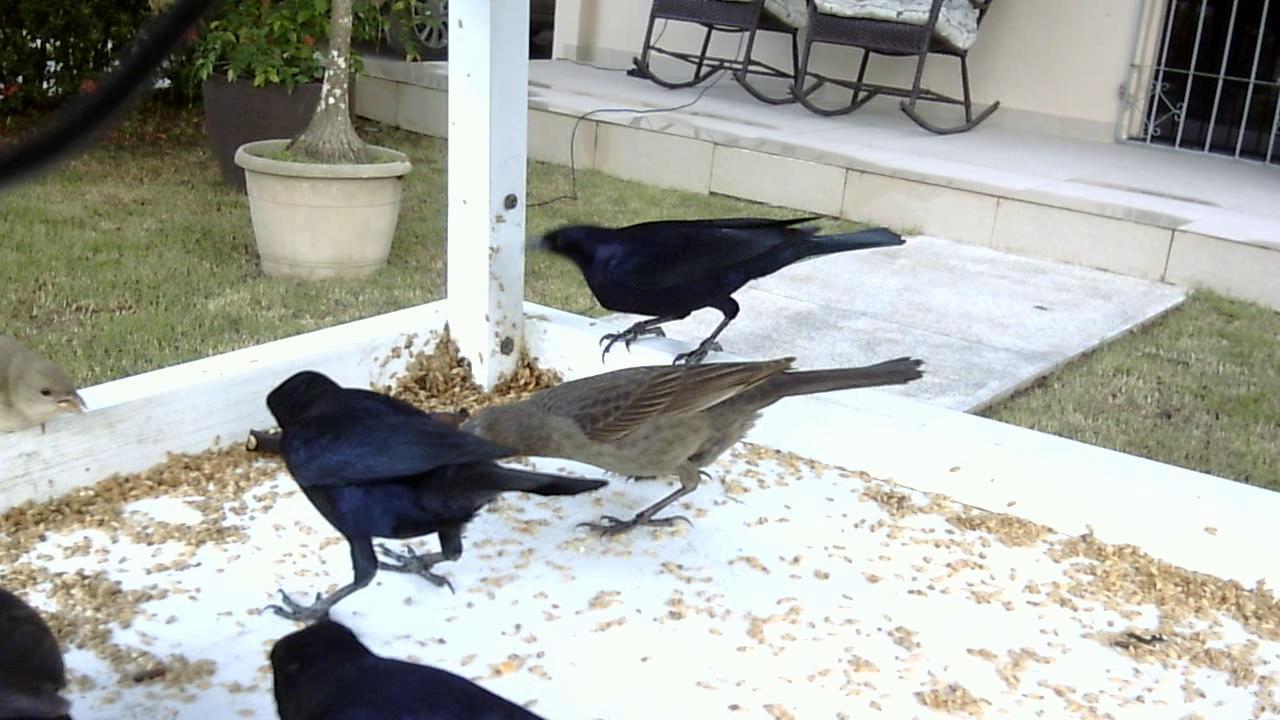canario_do_amazonas: (1, 324, 93, 441)
chupim: (249, 343, 610, 638), (447, 337, 925, 548), (529, 192, 914, 374), (263, 582, 572, 720)
